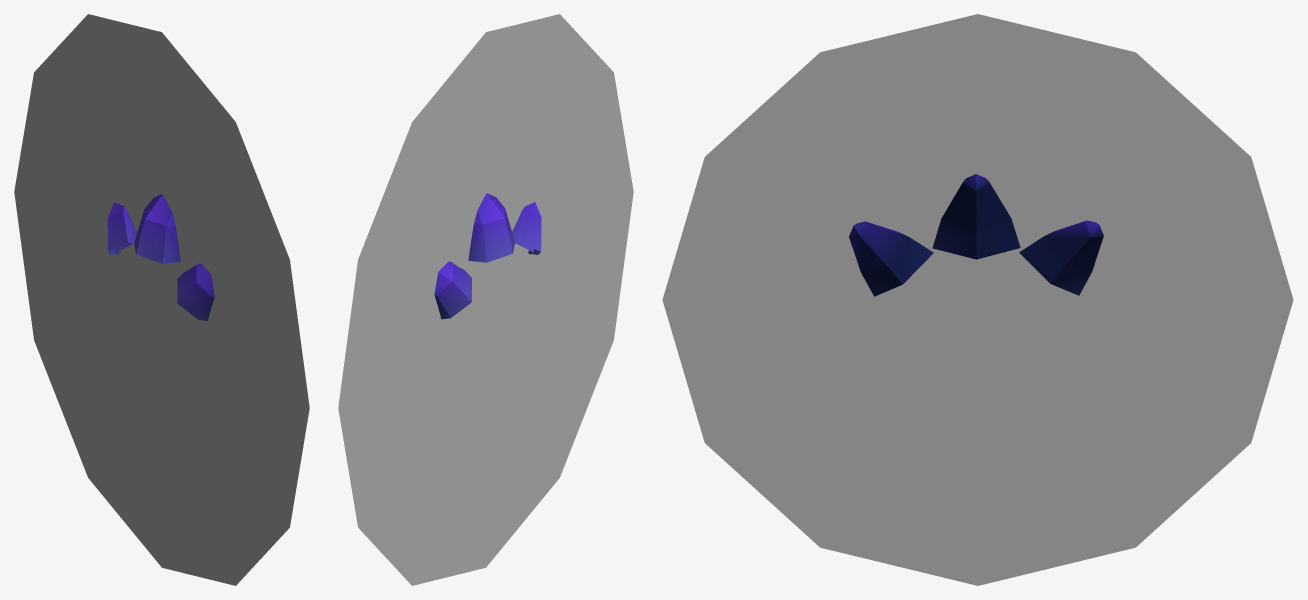
Rendered from pref_fx_Absol_spell01B_buff01_4_lv3.fbx.
The picture shows the model from 3 angles, left to right: view 1: azimuth 30°, elevation 25°; view 2: azimuth 150°, elevation 25°; view 3: azimuth 270°, elevation 25°; orthographic projection. The views are drawn at different scales.
Visible parts, largest first — view 1: glow_01, 0359_nail_01_zx_B; view 2: glow_01, 0359_nail_01_zx_B; view 3: glow_01, 0359_nail_01_zx_B.
Part boxes in pixels (x1,y1,x2,y2): glow_01: (14, 14, 309, 585); 0359_nail_01_zx_B: (107, 194, 214, 320); glow_01: (338, 14, 633, 585); 0359_nail_01_zx_B: (434, 193, 541, 319); glow_01: (662, 14, 1293, 585); 0359_nail_01_zx_B: (849, 174, 1103, 296).
Size of the model in its own units: 0.0911 by 0.6996 by 0.6996.
